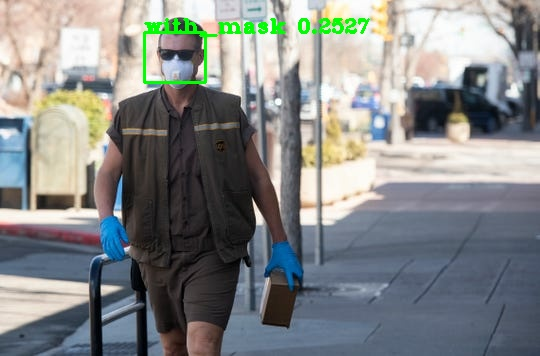with_mask: (156, 26, 207, 93)
